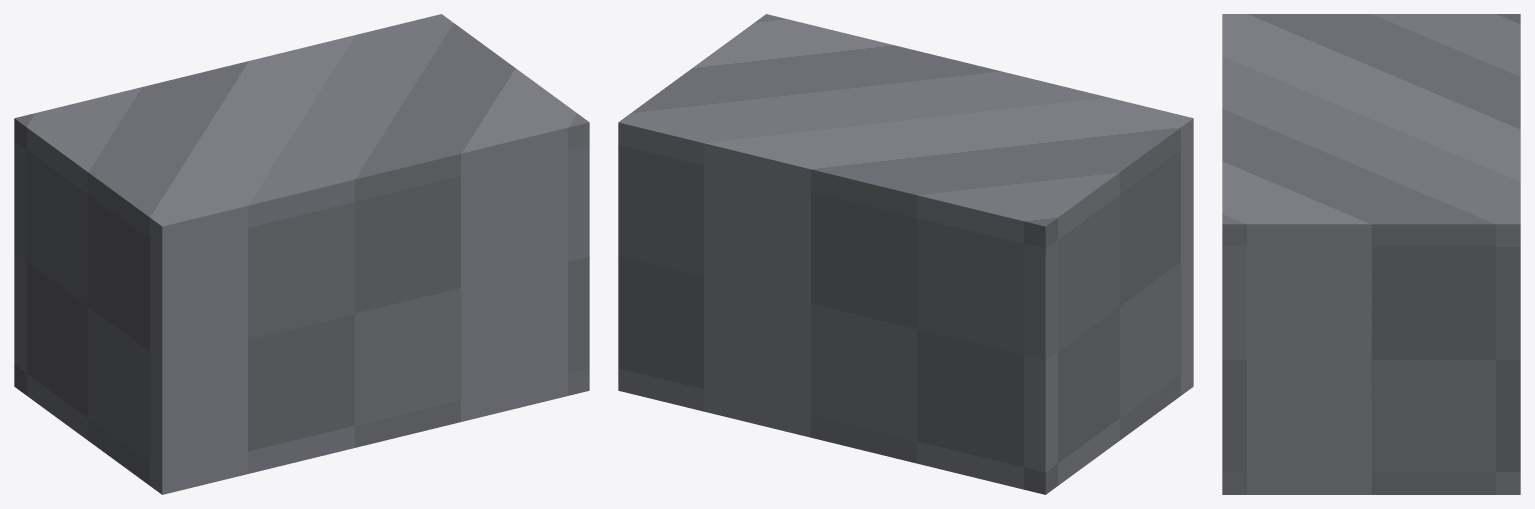
Rendered from pipe_slip.glb.
The picture shows the model from 3 angles, left to right: view 1: azimuth 30°, elevation 25°; view 2: azimuth 150°, elevation 25°; view 3: azimuth 270°, elevation 25°; orthographic projection.
Size of the model in its own units: 0.5 by 0.3 by 0.3.
1 material, 1 textured.
